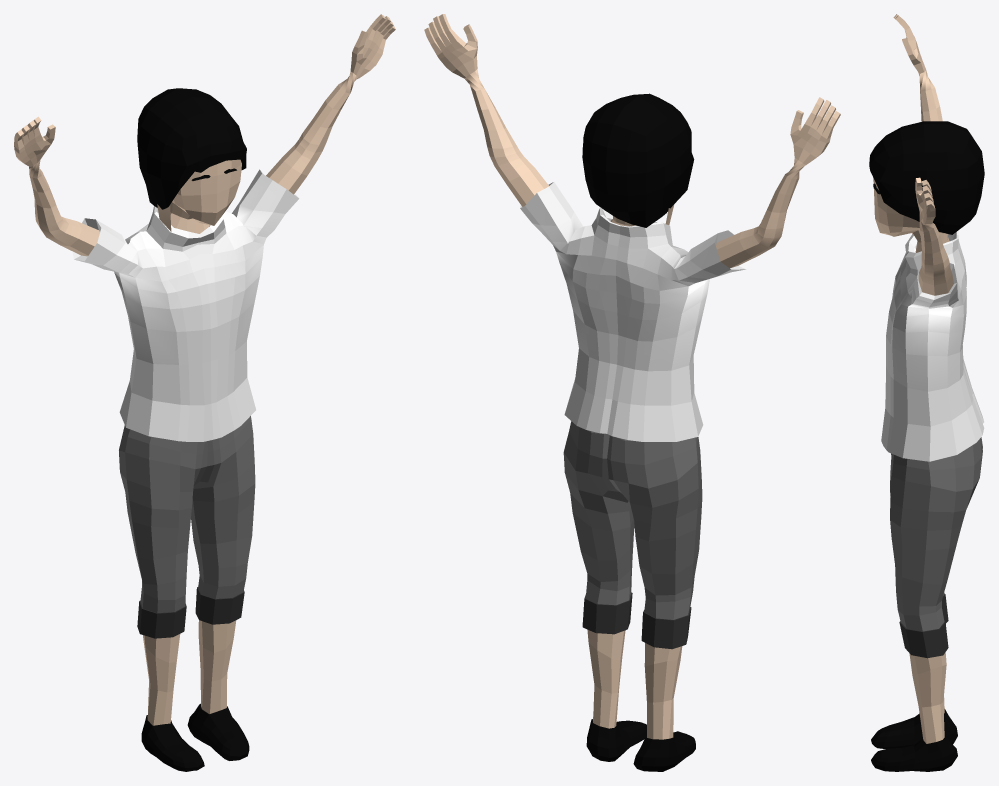
Rendered from Boy6.obj.
3 renders of one model, left to right at view 1: azimuth 30°, elevation 25°; view 2: azimuth 150°, elevation 25°; view 3: azimuth 270°, elevation 25°, orthographic. The views are drawn at different scales.
Visible parts, largest first — view 1: Boy_6_yr; view 2: Boy_6_yr; view 3: Boy_6_yr.
Boxes of the visible parts, <box> form: Boy_6_yr: <box>14,14,395,771</box>; Boy_6_yr: <box>424,14,840,771</box>; Boy_6_yr: <box>869,14,984,771</box>.
Bounding box in the file's own units: 28.56 × 47.69 × 7.49.
Materials: 1 (1 with a texture image).
